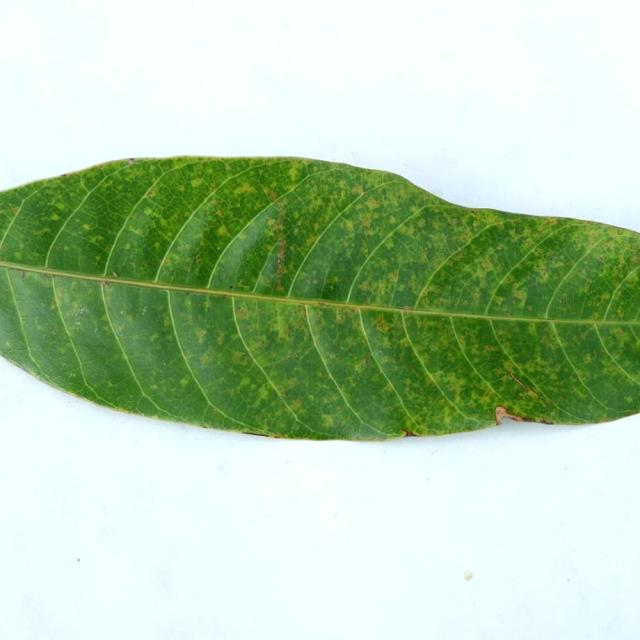Mango: (0, 157, 639, 440)
Powdery_Mildew: (357, 268, 403, 301), (270, 303, 298, 343), (369, 309, 410, 336), (284, 306, 318, 333), (306, 306, 334, 334), (279, 163, 307, 186), (507, 288, 528, 307), (543, 246, 566, 262), (234, 183, 258, 196), (359, 214, 375, 230), (255, 386, 271, 402), (238, 376, 253, 392), (480, 257, 496, 271), (324, 276, 338, 291), (367, 197, 384, 209), (189, 177, 206, 189), (231, 351, 246, 364), (375, 317, 389, 330), (525, 387, 540, 399), (275, 199, 286, 215), (194, 328, 207, 341), (216, 224, 229, 237), (320, 415, 334, 427), (336, 309, 348, 323), (342, 221, 355, 233), (236, 306, 248, 319), (289, 399, 303, 410), (353, 184, 365, 196), (34, 228, 50, 237), (388, 270, 399, 283), (89, 235, 103, 245), (584, 220, 605, 226), (49, 297, 58, 310), (178, 378, 189, 388), (54, 202, 66, 211), (143, 207, 154, 216), (546, 218, 559, 225), (150, 333, 160, 342), (308, 236, 318, 245), (268, 191, 278, 200), (49, 213, 60, 221), (215, 210, 225, 218), (82, 223, 92, 231), (548, 320, 558, 328), (313, 223, 321, 232), (635, 253, 640, 266), (147, 189, 155, 197), (161, 258, 169, 266), (484, 391, 493, 398), (364, 356, 371, 365), (560, 297, 567, 305), (470, 209, 479, 215), (124, 243, 131, 250), (150, 384, 158, 390), (11, 207, 19, 213), (20, 270, 26, 278), (5, 341, 11, 348), (195, 254, 201, 261), (350, 307, 357, 313), (281, 391, 288, 397), (298, 303, 305, 309), (279, 393, 286, 399), (597, 255, 603, 261), (593, 322, 599, 328), (502, 314, 511, 318), (69, 372, 76, 377), (317, 302, 325, 306), (212, 408, 217, 413), (397, 194, 401, 199), (237, 306, 241, 310)
